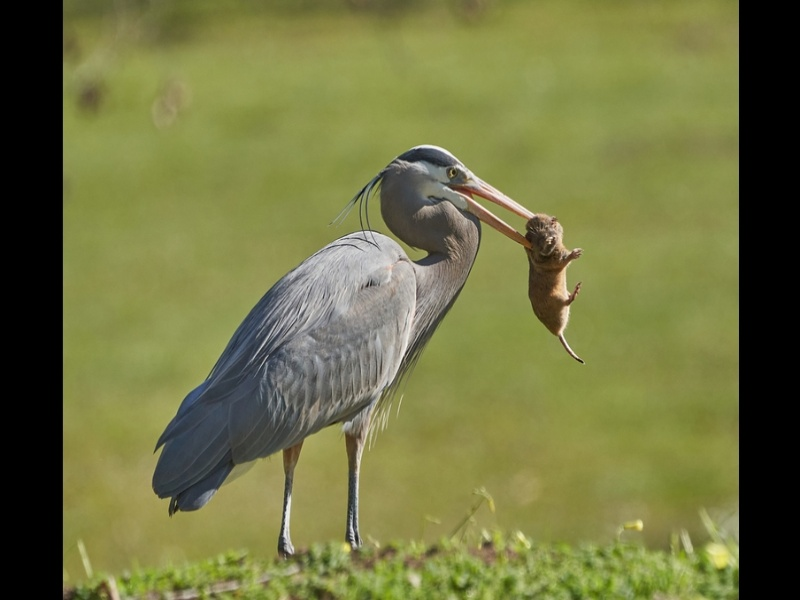heron: (148, 141, 527, 575)
